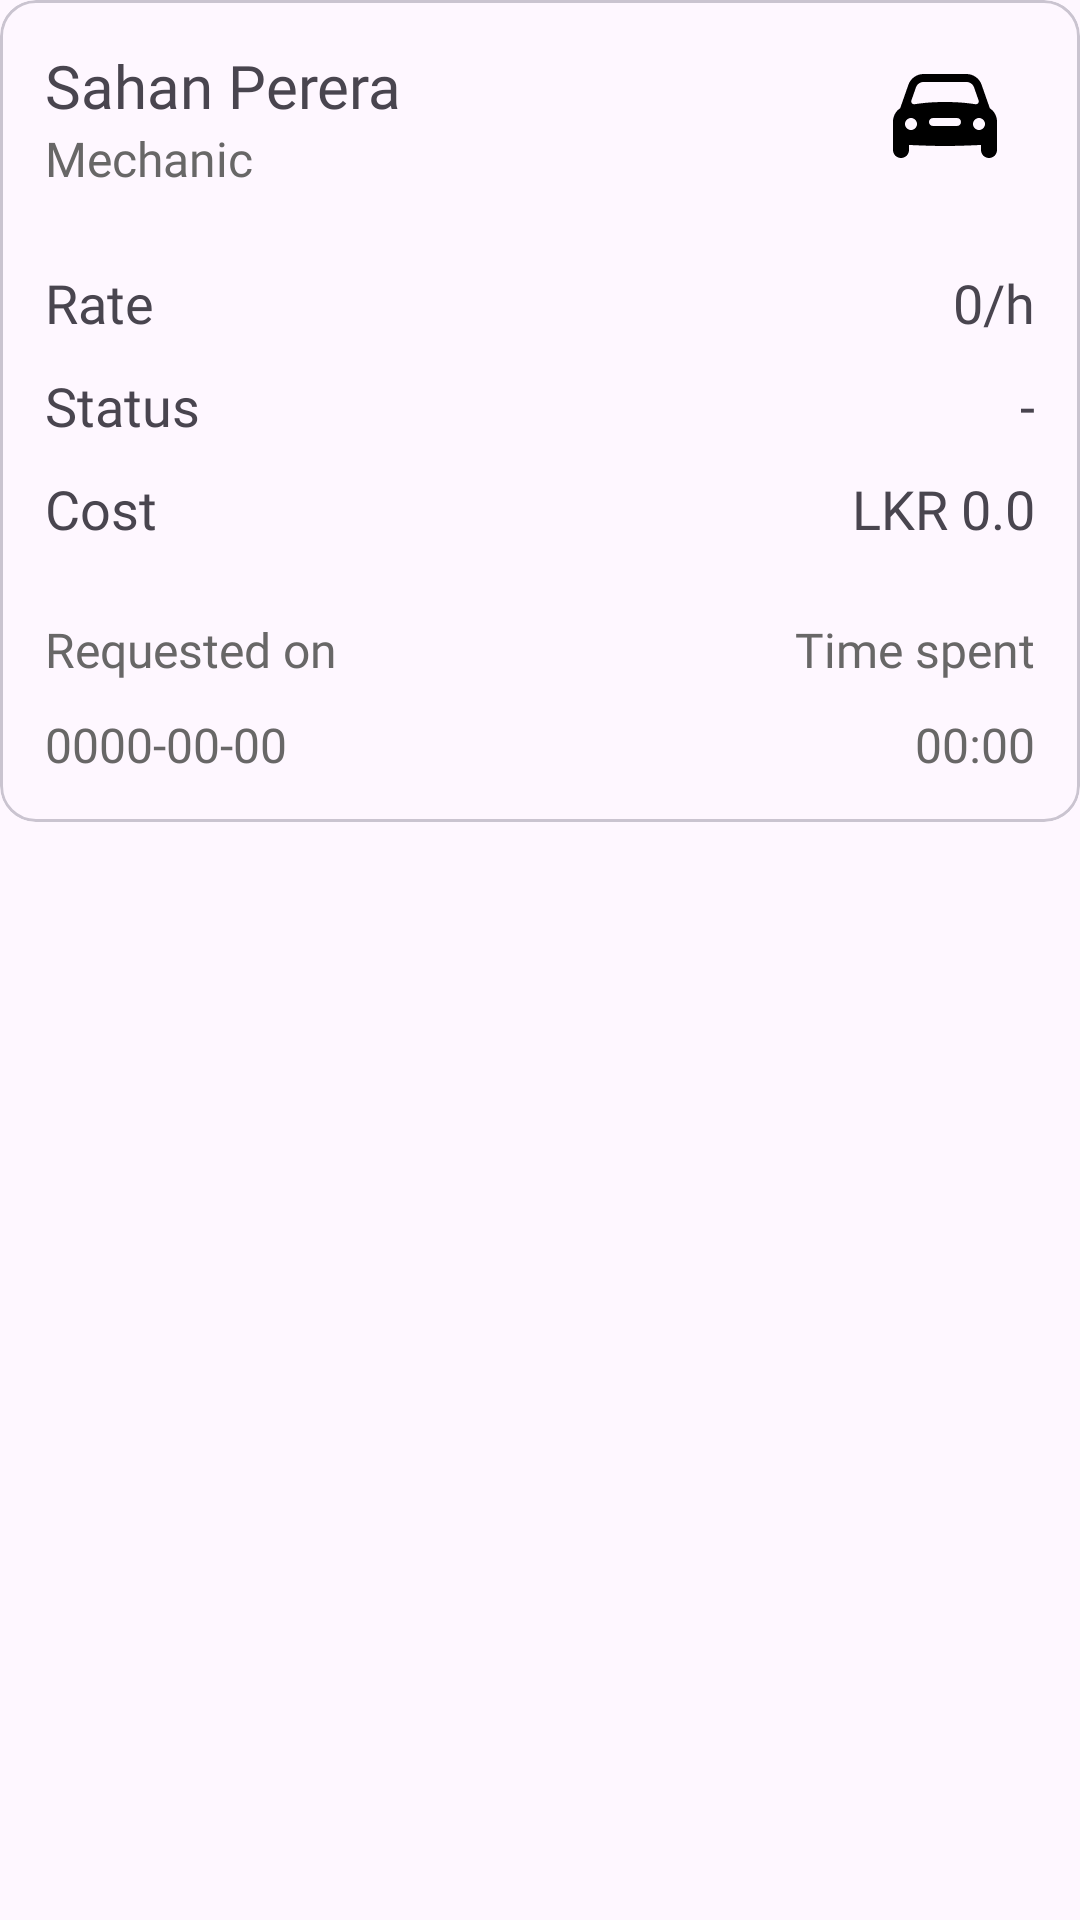

Screen size 1080x1920. Icon name, then its center in pixels as (x=x, y=y):
car: (x=945, y=116)
